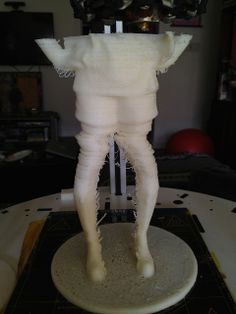Fail: (21, 27, 211, 314)
